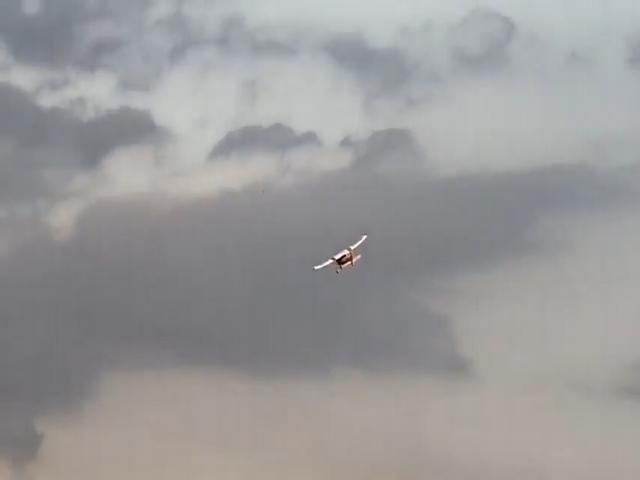plane: (313, 235, 368, 272)
